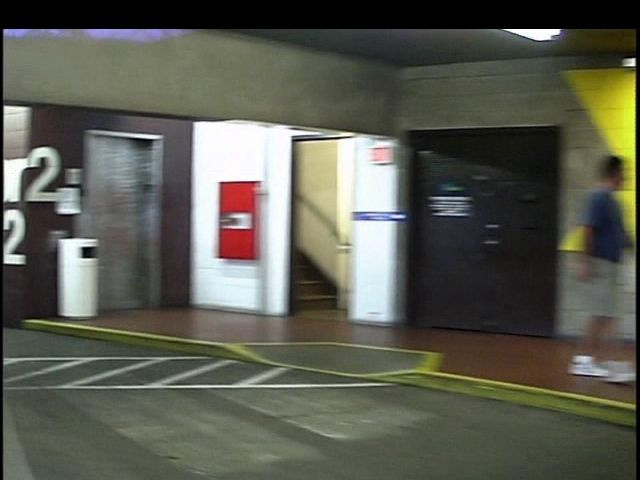person: (526, 149, 631, 388)
